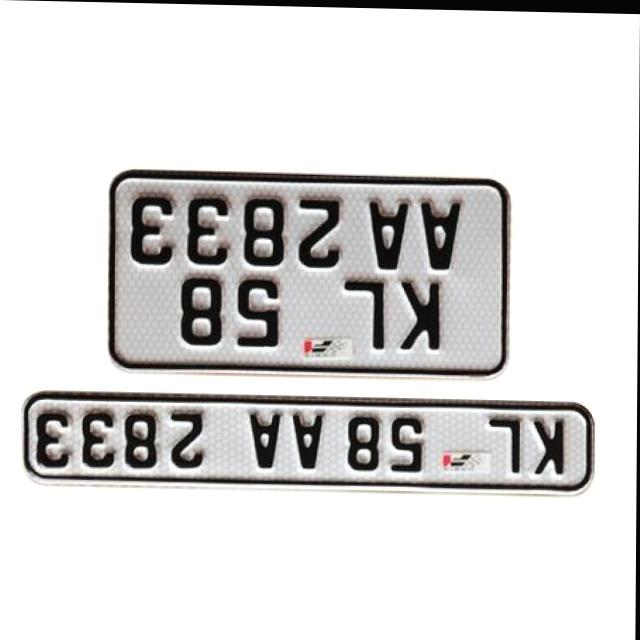2: (298, 195, 343, 270), (169, 411, 207, 469)
3: (129, 193, 177, 267), (181, 191, 230, 263), (35, 406, 71, 466), (81, 413, 116, 467)
5: (236, 273, 282, 349), (390, 414, 426, 470)
8: (178, 273, 227, 348), (241, 195, 288, 267), (345, 415, 382, 468), (124, 411, 159, 467)
a: (364, 197, 411, 267), (418, 197, 462, 269), (245, 409, 285, 470), (293, 411, 326, 467)
k: (398, 276, 445, 350), (532, 415, 567, 474)
l: (342, 277, 389, 349), (487, 414, 525, 472)
